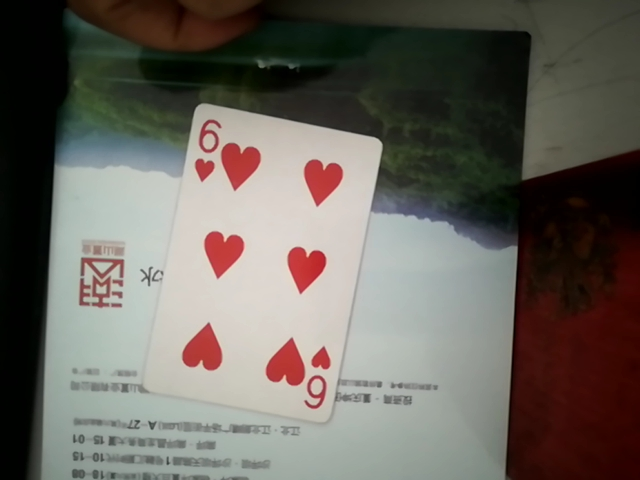hx 6: (139, 100, 382, 423)
